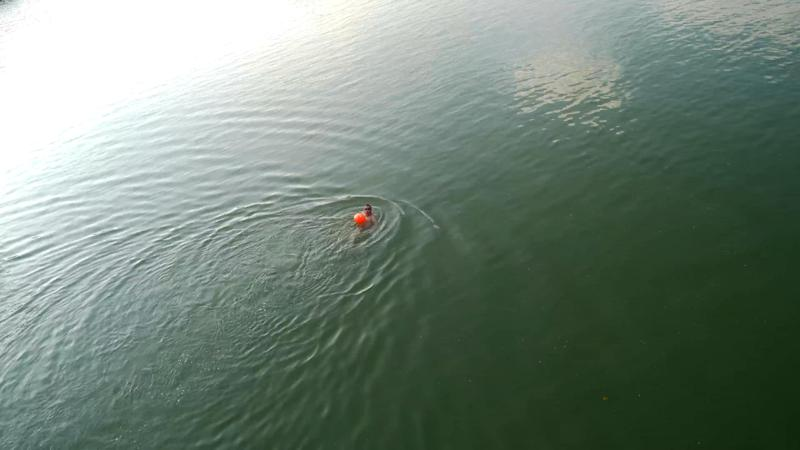swimmers: (354, 202, 376, 224)
